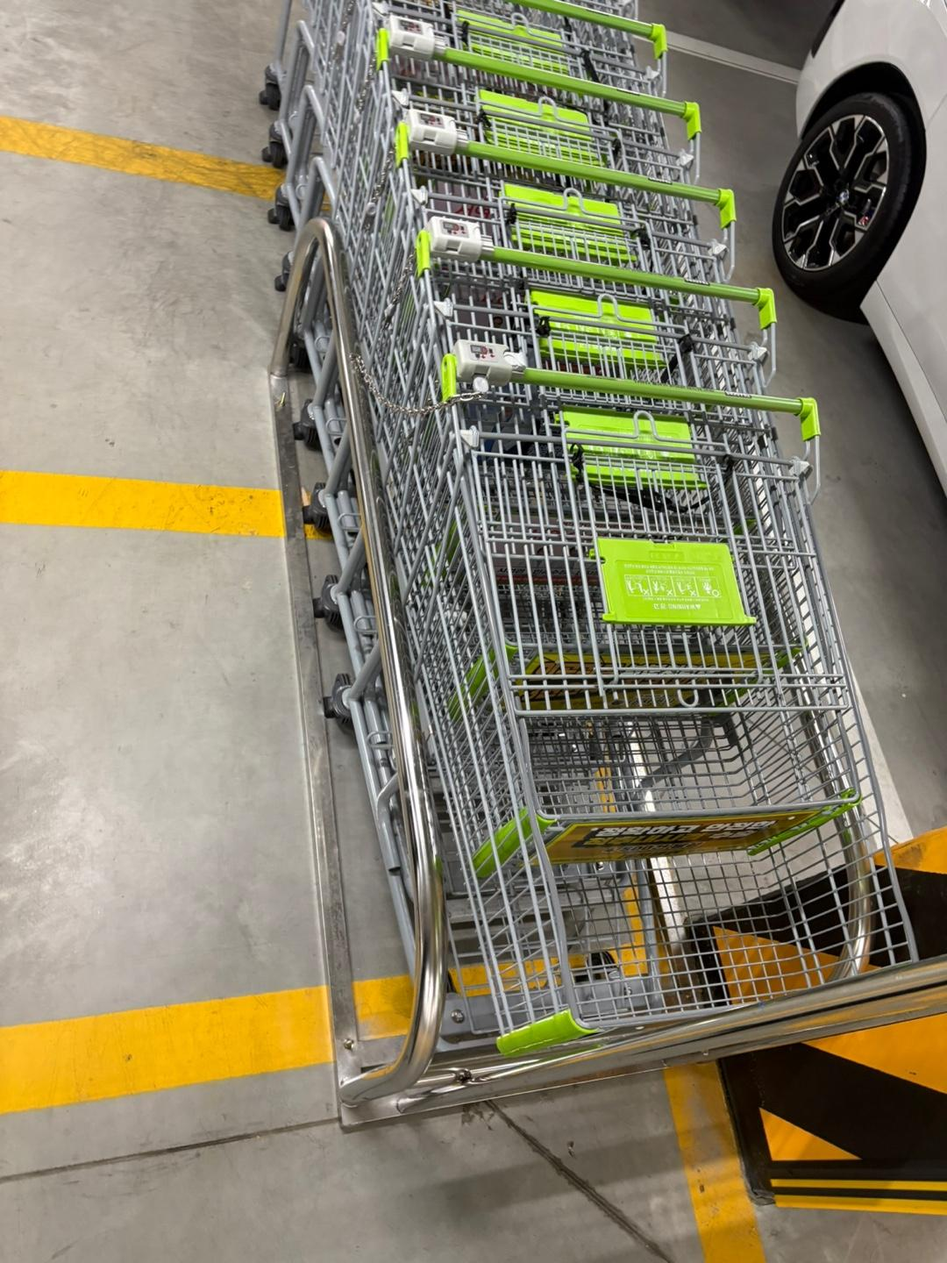combined_cart: (237, 0, 946, 1173)
